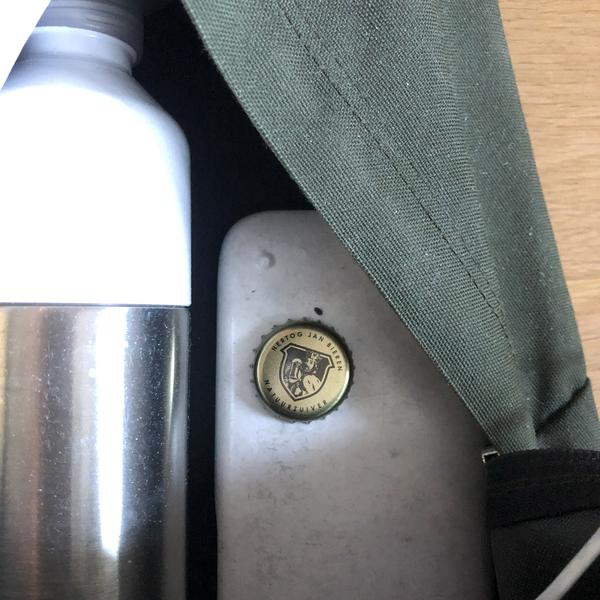hertogjan: (248, 316, 356, 430)
